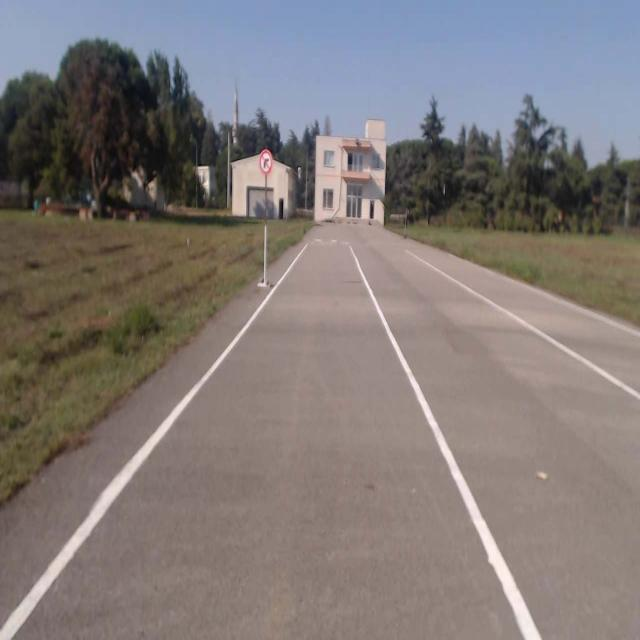sagadonulmez: (259, 150, 272, 174)
